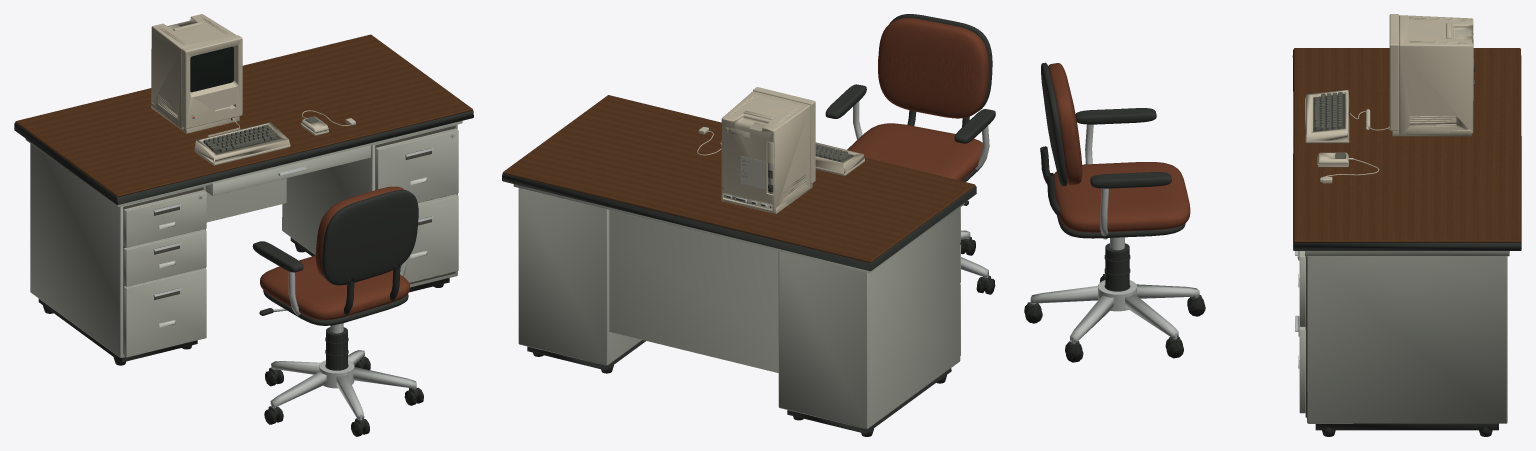
File: bare-workstation.glb
3 renders of one model, left to right at view 1: azimuth 30°, elevation 25°; view 2: azimuth 150°, elevation 25°; view 3: azimuth 270°, elevation 25°, orthographic. The views are drawn at different scales.
Parts seen in each view (by area): view 1: Bare existing workstation 01, Bare existing workstation 02, Bare existing workstation 04, Bare existing workstation 19, Bare existing workstation 18, Bare existing workstation 00, Bare existing workstation 22, Bare existing workstation 20, Bare existing workstation 23, Bare existing workstation 24, Bare existing workstation 07, Bare existing workstation 03 (+4 smaller); view 2: Bare existing workstation 02, Bare existing workstation 01, Bare existing workstation 18, Bare existing workstation 22, Bare existing workstation 00, Bare existing workstation 19, Bare existing workstation 20, Bare existing workstation 07, Bare existing workstation 23, Bare existing workstation 37, Bare existing workstation 30; view 3: Bare existing workstation 02, Bare existing workstation 01, Bare existing workstation 22, Bare existing workstation 18, Bare existing workstation 19, Bare existing workstation 20, Bare existing workstation 00, Bare existing workstation 07, Bare existing workstation 23, Bare existing workstation 21, Bare existing workstation 04, Bare existing workstation 10 (+1 smaller).
Part boxes in pixels (box(x1,y1,x2,y2)): Bare existing workstation 01: box(15, 34, 472, 197); Bare existing workstation 02: box(25, 121, 462, 357); Bare existing workstation 04: box(123, 128, 458, 357); Bare existing workstation 19: box(252, 190, 419, 427); Bare existing workstation 18: box(260, 186, 409, 320); Bare existing workstation 00: box(14, 110, 473, 365); Bare existing workstation 22: box(151, 14, 239, 133); Bare existing workstation 20: box(270, 259, 416, 420); Bare existing workstation 23: box(182, 35, 242, 128); Bare existing workstation 24: box(190, 46, 233, 92); Bare existing workstation 07: box(194, 118, 290, 165); Bare existing workstation 03: box(123, 126, 455, 353); Bare existing workstation 02: box(513, 184, 964, 429); Bare existing workstation 01: box(503, 95, 975, 262); Bare existing workstation 18: box(847, 18, 988, 180); Bare existing workstation 22: box(721, 91, 812, 213); Bare existing workstation 00: box(502, 173, 976, 436); Bare existing workstation 19: box(825, 14, 995, 285); Bare existing workstation 20: box(853, 101, 989, 277); Bare existing workstation 07: box(815, 142, 864, 176); Bare existing workstation 23: box(730, 87, 815, 183); Bare existing workstation 37: box(740, 156, 764, 189); Bare existing workstation 30: box(723, 122, 810, 209); Bare existing workstation 02: box(1305, 251, 1509, 423); Bare existing workstation 01: box(1293, 48, 1520, 242); Bare existing workstation 22: box(1392, 15, 1473, 136); Bare existing workstation 18: box(1048, 63, 1190, 232); Bare existing workstation 19: box(1027, 62, 1201, 348); Bare existing workstation 20: box(1030, 124, 1199, 343); Bare existing workstation 00: box(1292, 50, 1521, 436); Bare existing workstation 07: box(1305, 89, 1389, 143); Bare existing workstation 23: box(1389, 14, 1399, 130); Bare existing workstation 21: box(1024, 276, 1205, 362); Bare existing workstation 04: box(1299, 251, 1305, 413); Bare existing workstation 10: box(1315, 92, 1342, 130).
Bounding box in the file's own units: 1.52 × 1.1 × 1.65.
Materials: 39 (2 with a texture image).
